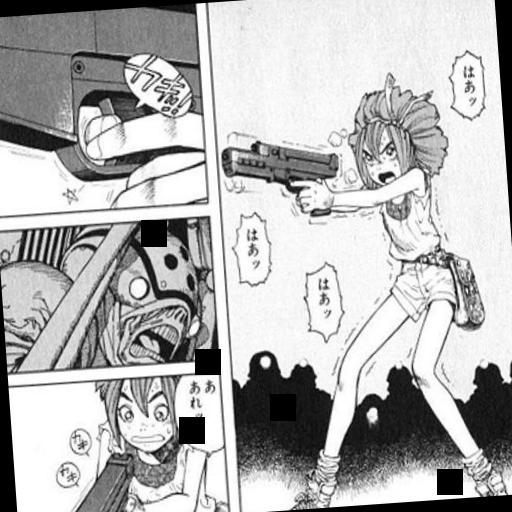Handgun: (222, 122, 342, 226)
